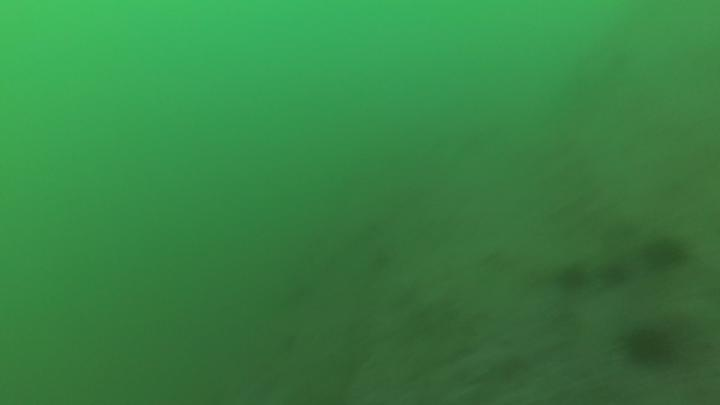echinus: (625, 323, 673, 370), (643, 234, 689, 272), (558, 262, 589, 294), (601, 261, 631, 290)
